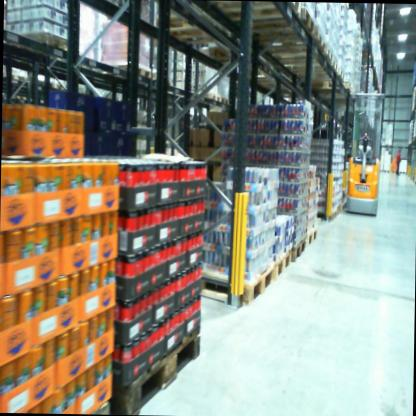pallet_truck: (112, 321, 209, 415), (347, 87, 387, 220), (196, 255, 275, 308), (160, 10, 225, 56), (187, 0, 302, 23), (240, 6, 317, 40), (198, 36, 259, 65), (266, 40, 333, 64), (262, 30, 326, 55), (274, 54, 339, 75), (302, 80, 367, 101), (283, 63, 345, 83), (24, 32, 77, 52), (274, 242, 294, 283), (119, 58, 153, 79), (304, 206, 336, 223), (290, 234, 308, 263), (306, 228, 318, 251), (202, 90, 221, 101), (218, 96, 233, 106), (339, 201, 347, 216), (332, 204, 339, 218)
